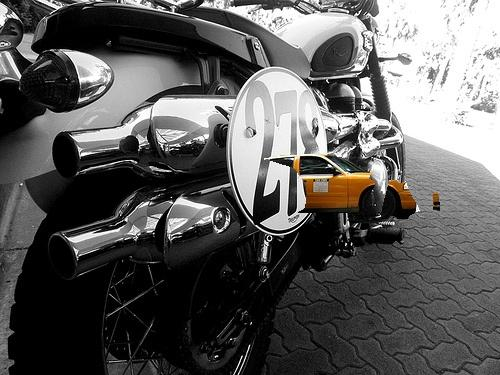tampered: (265, 155, 440, 219)
